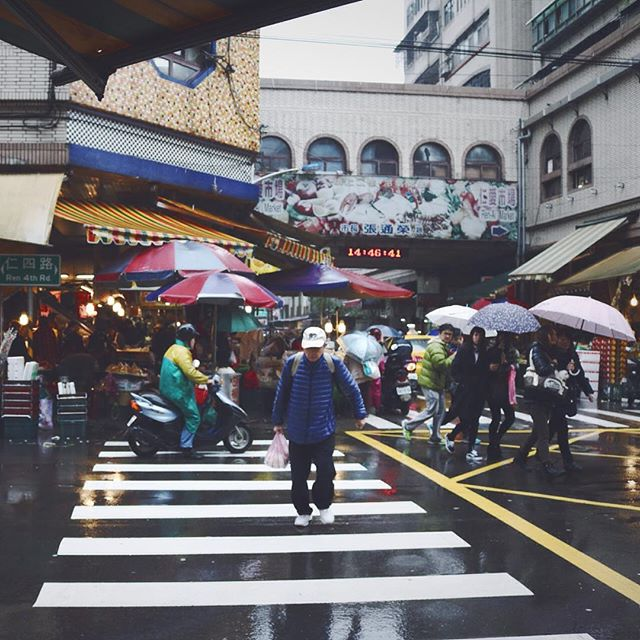people: (274, 327, 361, 521), (158, 323, 205, 448), (413, 324, 453, 442), (531, 330, 558, 473), (487, 330, 517, 455), (459, 322, 484, 465), (563, 335, 582, 467)
